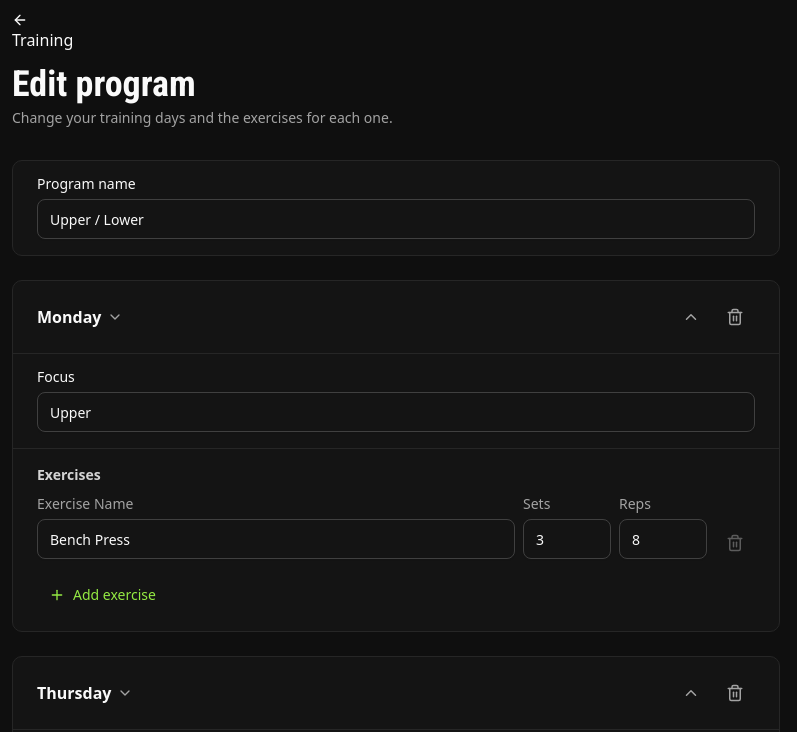
Test: ManualProgramCreation › editing a saved program › marks an edited field and clears the mark when it is changed back
The width and height of the screenshot is (797, 732).
Replace the text in the number field labelled "Sets" with "4" at [567, 539], box [523,519,611,559]
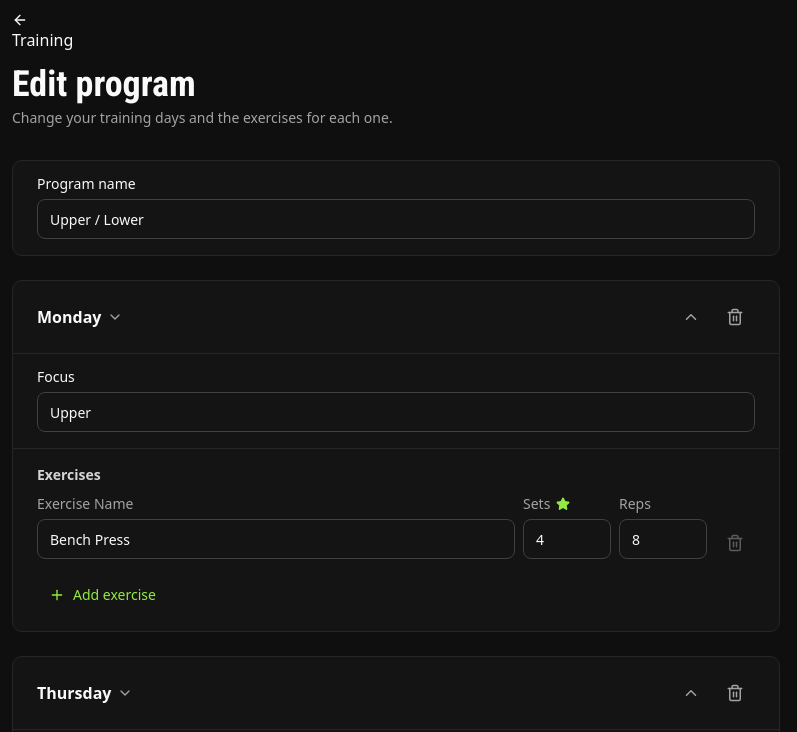
Replace the text in the number field labelled "Sets" with "3" at [567, 539], box [523,519,611,559]
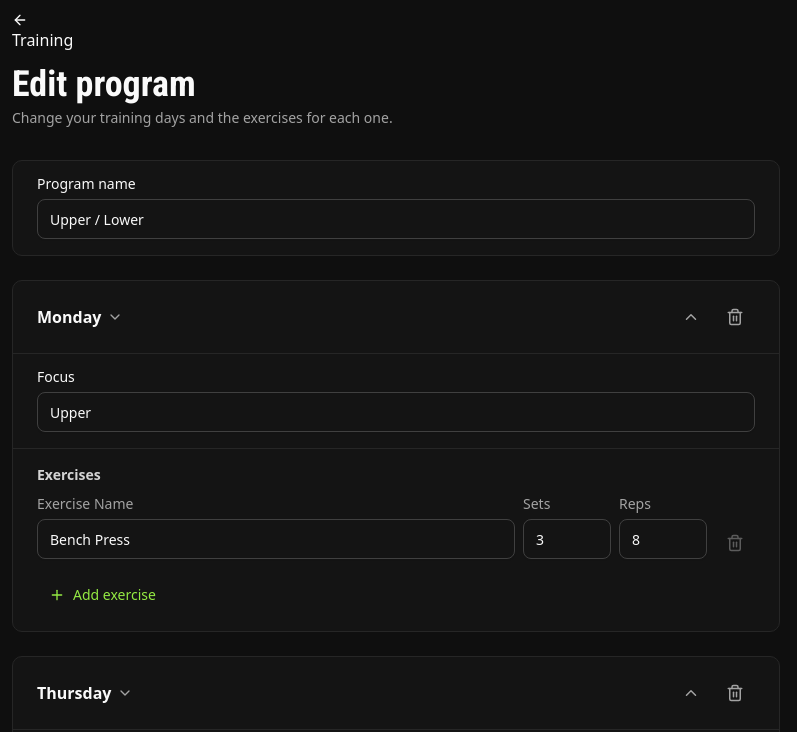
Expected: the element titled "Edited" is gone
